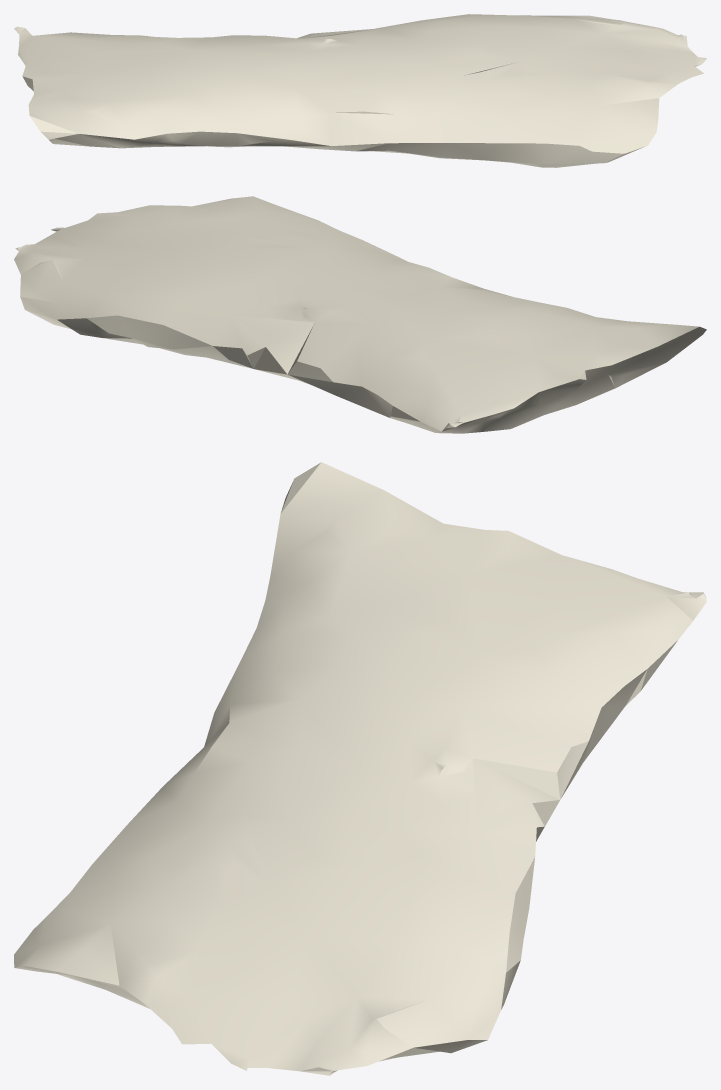
The model's file is fma44498_mm1369m.glb.
3 views of the same model, one above another, from view 1: azimuth 30°, elevation 25°; view 2: azimuth 150°, elevation 25°; view 3: azimuth 270°, elevation 25° (orthographic). The views are drawn at different scales.
Parts seen in each view (by area): view 1: FMA44498_MM1369M; view 2: FMA44498_MM1369M; view 3: FMA44498_MM1369M.
Part boxes in pixels (left/top/right/bottom): FMA44498_MM1369M: left=14, top=14, right=706, bottom=167; FMA44498_MM1369M: left=14, top=196, right=706, bottom=433; FMA44498_MM1369M: left=14, top=462, right=706, bottom=1075.
Size of the model in its own units: 0.0195 by 0.00345 by 0.0117.
